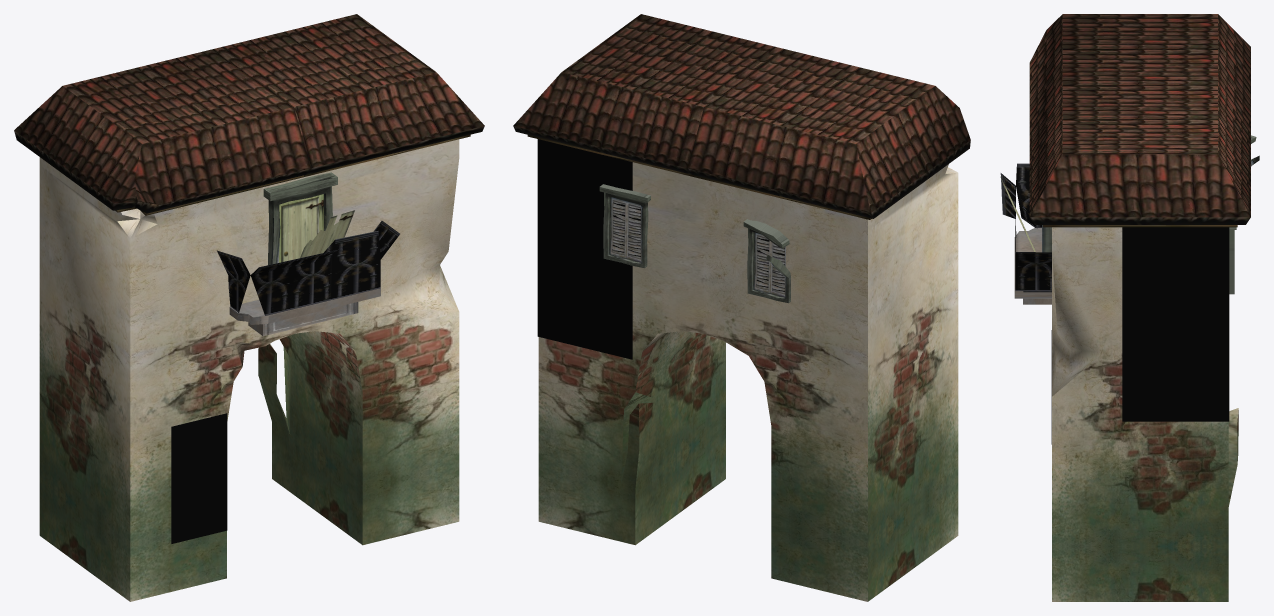
Rendered from pir_m_bld_wal_spanish_archB_burned.fbx.
3 views of the same model, side by side, from view 1: azimuth 30°, elevation 25°; view 2: azimuth 150°, elevation 25°; view 3: azimuth 270°, elevation 25° (orthographic). The views are drawn at different scales.
Parts seen in each view (by area): view 1: arch, roof, railing, cracks_01, balcony_wood, doorFrame, doorHole, door; view 2: arch, roof, cracks_02, window_left, window_right; view 3: arch, roof, cracks_02, railing, balcony_wood, window_left.
Boxes of the visible parts, x1,y1,x2,y2 form: arch: (39,139,459,601); roof: (14,14,484,215); railing: (217,221,399,315); cracks_01: (171,413,227,543); balcony_wood: (229,288,380,336); doorFrame: (263,172,337,265); doorHole: (279,194,323,262); door: (300,210,354,257); arch: (538,162,958,601); roof: (513,14,970,219); cracks_02: (537,139,632,359); window_left: (599,184,650,268); window_right: (743,219,790,303); arch: (1052,227,1238,601); roof: (1029,14,1250,227); cracks_02: (1122,227,1229,421); railing: (1000,163,1051,292); balcony_wood: (1014,228,1051,304); window_left: (1229,227,1236,294).
Size of the model in its own units: 3254 by 3909 by 2098.
Materials: 3 (3 with a texture image).
